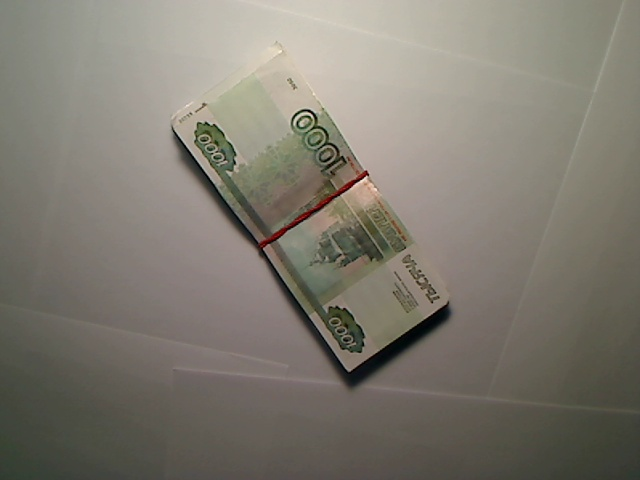banknotes: (169, 39, 456, 381)
